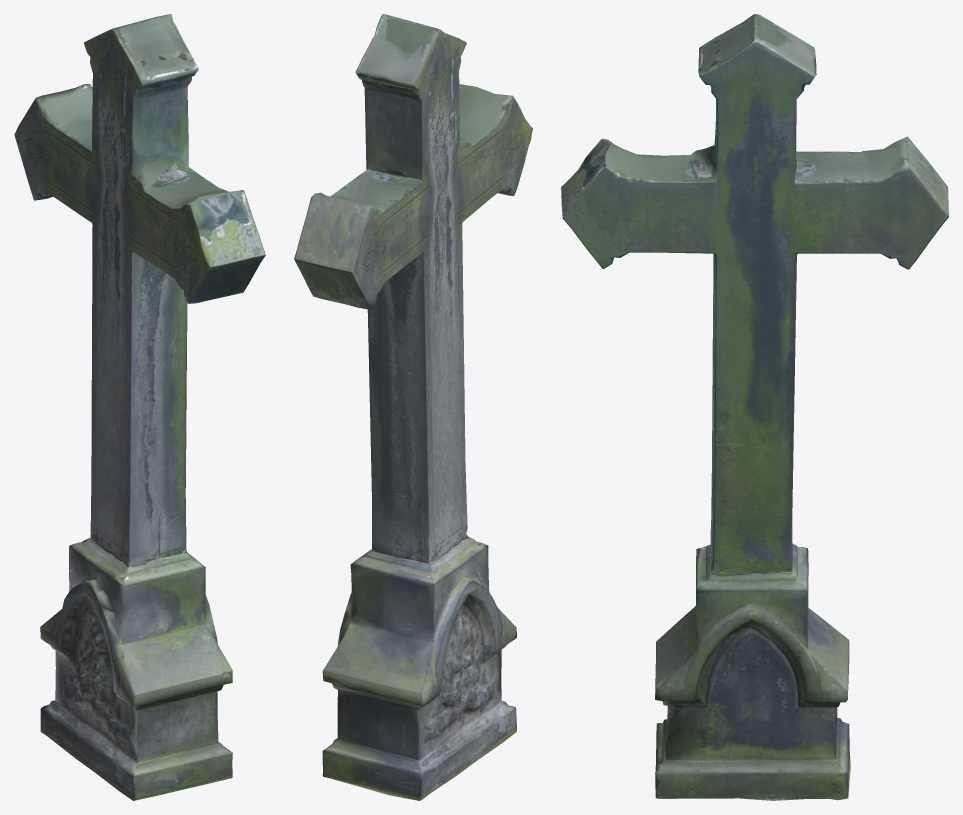
File: sm_Grave_01_02.fbx
3 views of the same model, side by side, from view 1: azimuth 30°, elevation 25°; view 2: azimuth 150°, elevation 25°; view 3: azimuth 270°, elevation 25° (orthographic). The views are drawn at different scales.
Parts seen in each view (by area): view 1: sm_Grave_01_02_LOD0; view 2: sm_Grave_01_02_LOD0; view 3: sm_Grave_01_02_LOD0.
Part boxes in pixels (x1,y1,x2,y2): sm_Grave_01_02_LOD0: [14, 14, 265, 800]; sm_Grave_01_02_LOD0: [294, 14, 532, 800]; sm_Grave_01_02_LOD0: [561, 14, 948, 800].
Bounding box in the file's own units: 22.44 × 71.78 × 154.
